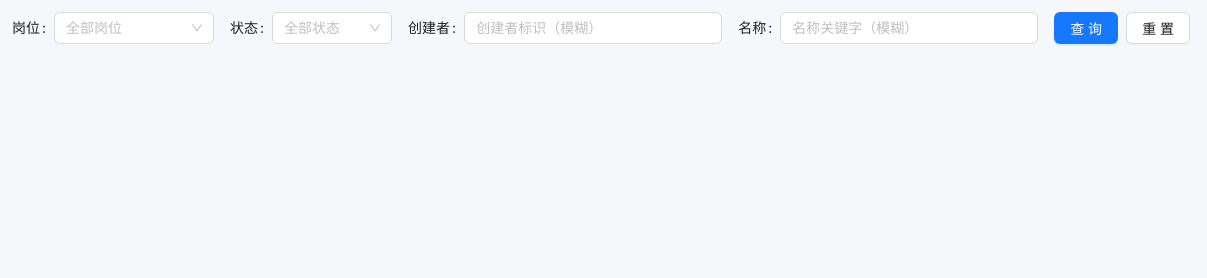
it: RegistryFilters › 渲染 4 个筛选控件与 查询 / 重置（岗位选项来自 6 个岗位模板）
The image size is (1207, 278).
Expected: the search field labelled "状态" is shown, [230,12,272,44]
Expected: the field labelled "创建者" is shown, [476,17,694,39]
What coordinates should you click on to do the following:
click the dropdown labelled "岗位"
I would click on:
 (33, 28)
Its box is [12,12,54,44].
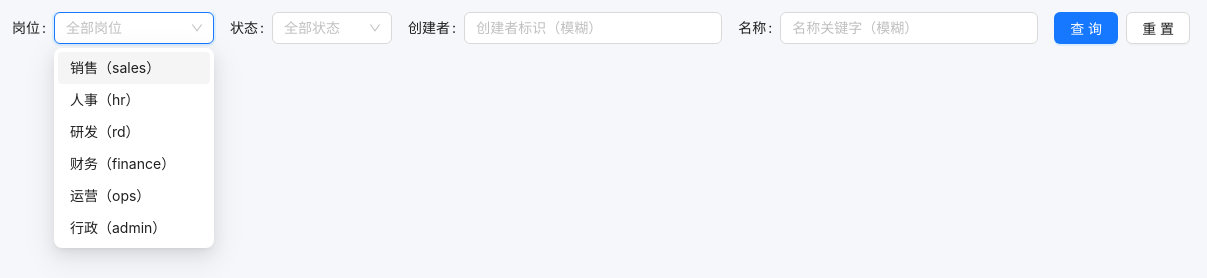
Expected: the element titled "研发（rd）" is shown, [70,123,140,140]
Expected: the element titled "运营（ops）" is shown, [70,187,150,204]
